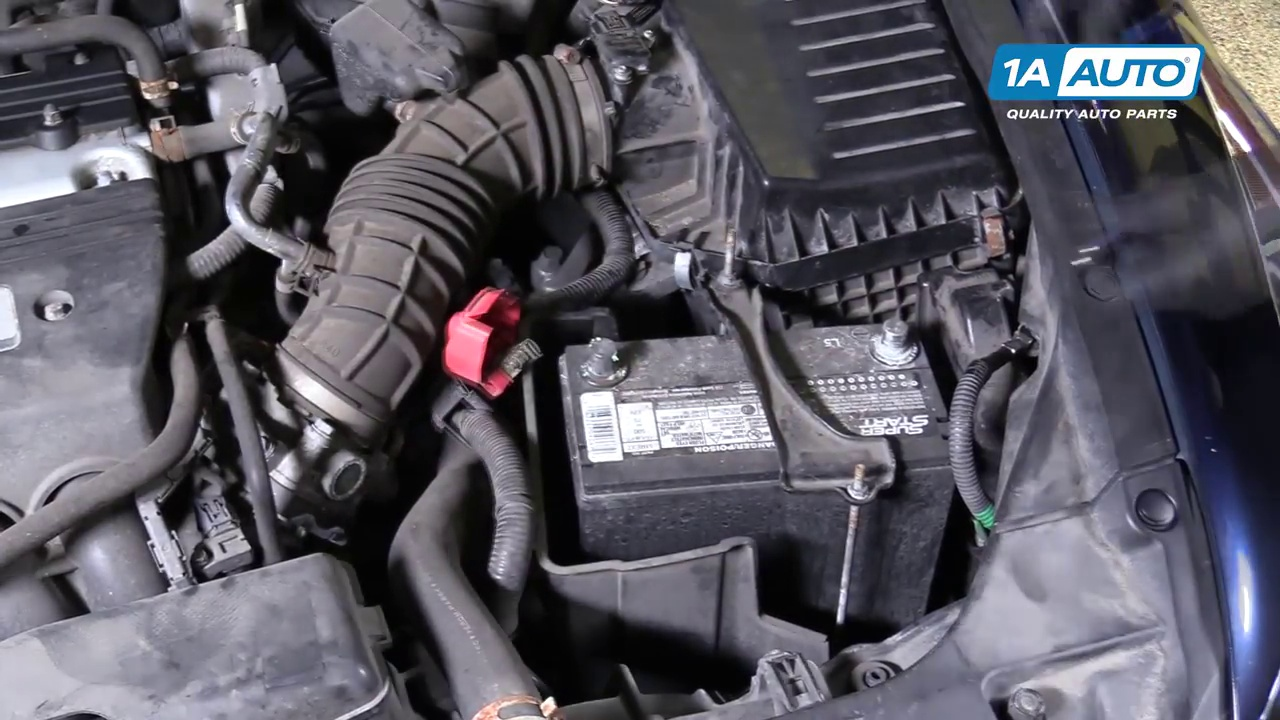battery: (560, 311, 956, 492)
neg_disconnected: (843, 300, 955, 375)
pos_disconnected: (423, 290, 658, 411)
